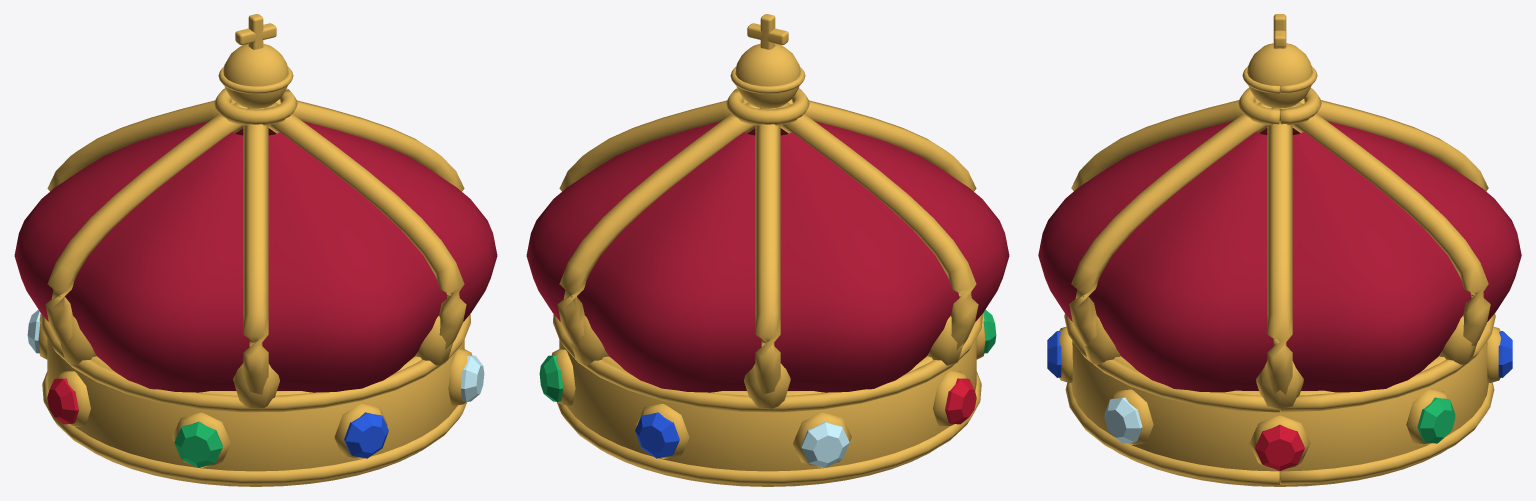
File: royal-crown.glb
3 views of the same model, side by side, from view 1: azimuth 30°, elevation 25°; view 2: azimuth 150°, elevation 25°; view 3: azimuth 270°, elevation 25° (orthographic).
Visible parts, largest first — view 1: RoyalCrown_Sculpture; view 2: RoyalCrown_Sculpture; view 3: RoyalCrown_Sculpture.
Boxes of the visible parts, x1,y1,x2,y2 form: RoyalCrown_Sculpture: (14, 14, 497, 486); RoyalCrown_Sculpture: (526, 14, 1009, 486); RoyalCrown_Sculpture: (1038, 14, 1521, 486).
Size of the model in its own units: 0.3444 by 0.3065 by 0.3472.
